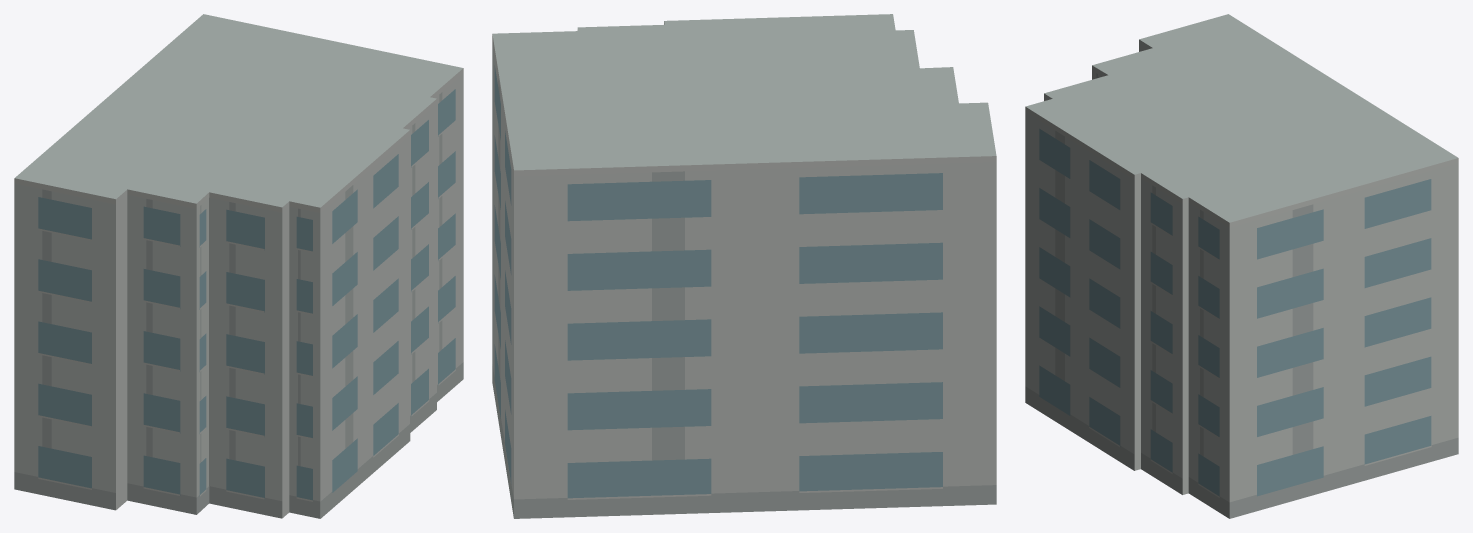
File: survey-upis-32798928.glb
3 views of the same model, side by side, from view 1: azimuth 30°, elevation 25°; view 2: azimuth 150°, elevation 25°; view 3: azimuth 270°, elevation 25° (orthographic). The views are drawn at different scales.
Parts seen in each view (by area): view 1: survey-upis-32798928.tmp; view 2: survey-upis-32798928.tmp; view 3: survey-upis-32798928.tmp.
Boxes of the visible parts, x1=… form: survey-upis-32798928.tmp: x1=14, y1=14, x2=463, y2=518; survey-upis-32798928.tmp: x1=492, y1=14, x2=996, y2=518; survey-upis-32798928.tmp: x1=1025, y1=14, x2=1458, y2=518.
Size of the model in its own units: 21.03 by 13.9 by 18.45.
